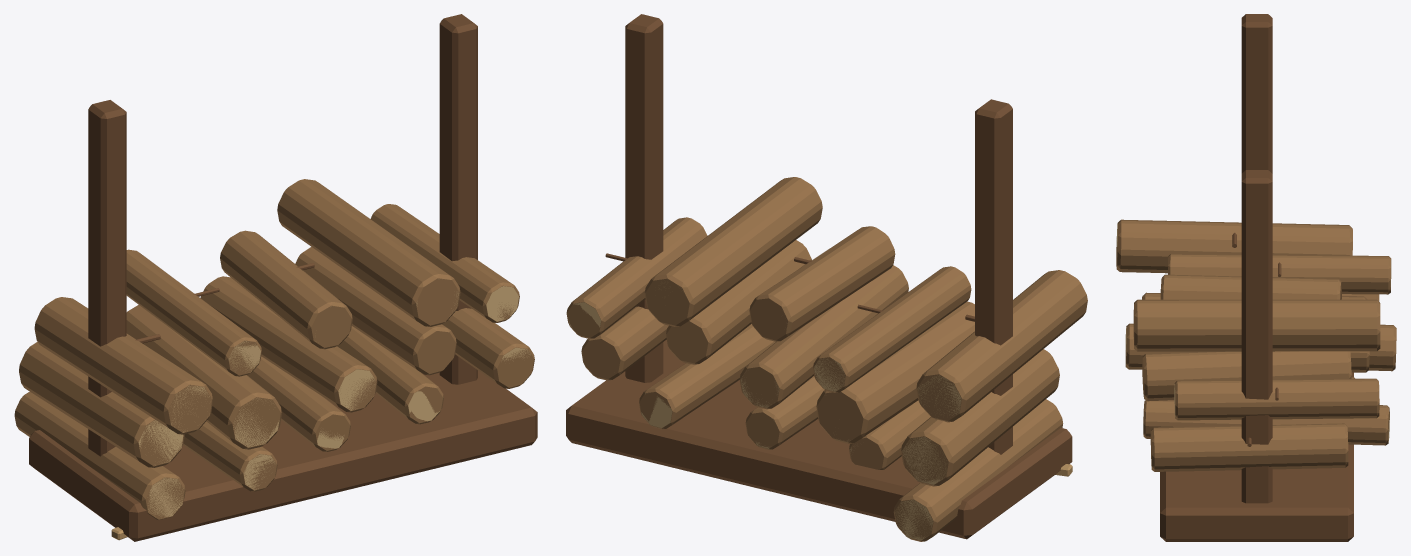
The model's file is runtime.glb.
The picture shows the model from 3 angles, left to right: view 1: azimuth 30°, elevation 25°; view 2: azimuth 150°, elevation 25°; view 3: azimuth 270°, elevation 25°; orthographic projection. The views are drawn at different scales.
Visible parts, largest first — view 1: falkenwacht-woodpile-v03_nocol; view 2: falkenwacht-woodpile-v03_nocol; view 3: falkenwacht-woodpile-v03_nocol.
Boxes of the visible parts, x1,y1,x2,y2 form: falkenwacht-woodpile-v03_nocol: [14, 14, 537, 541]; falkenwacht-woodpile-v03_nocol: [566, 14, 1087, 541]; falkenwacht-woodpile-v03_nocol: [1116, 14, 1396, 541].
Bounding box in the file's own units: 2.55 × 2.3 × 1.63.
